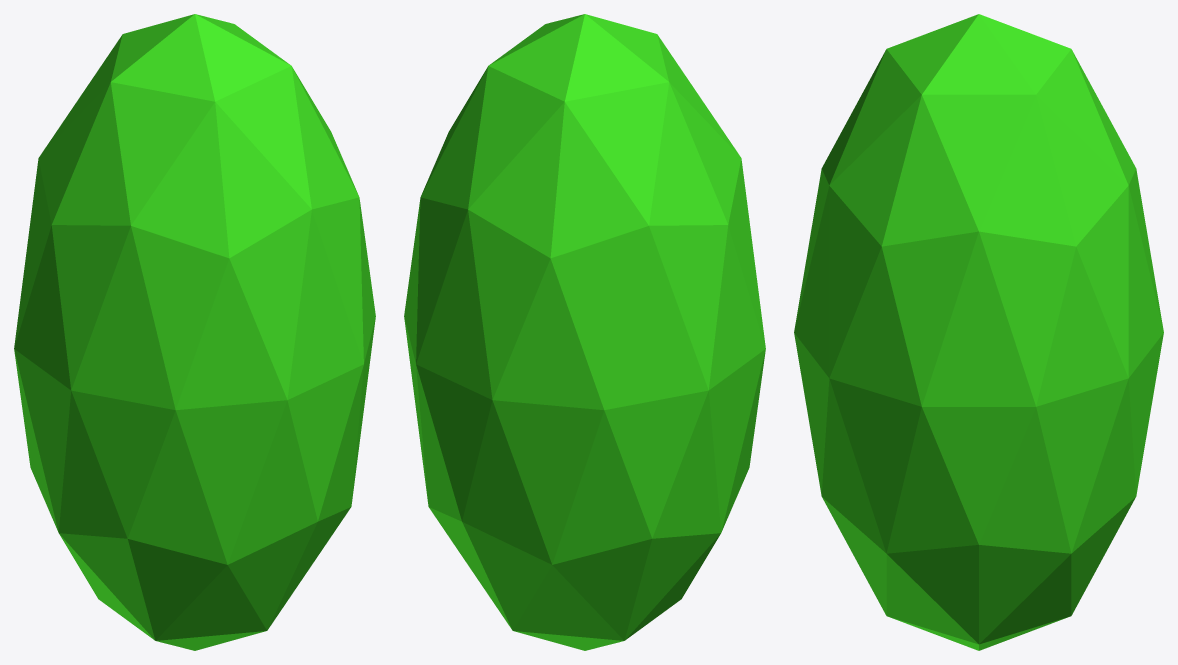
Rendered from Player.glb.
3 renders of one model, left to right at view 1: azimuth 30°, elevation 25°; view 2: azimuth 150°, elevation 25°; view 3: azimuth 270°, elevation 25°, orthographic.
Visible parts, largest first — view 1: Icosphere.002; view 2: Icosphere.002; view 3: Icosphere.002.
Boxes of the visible parts, x1,y1,x2,y2 form: Icosphere.002: [14, 14, 375, 650]; Icosphere.002: [404, 14, 765, 650]; Icosphere.002: [794, 14, 1163, 650].
Size of the model in its own units: 1.9 by 3.8 by 2.
